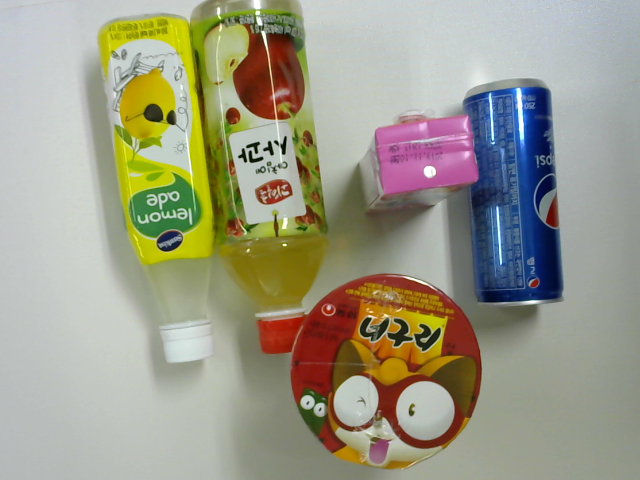Morning_Apple_500ml: (189, 2, 333, 364)
Pepsi_Cola_Can_250ml: (461, 78, 571, 314)
Raccoon: (291, 276, 481, 480)
Strawberry_E_Mong: (359, 110, 481, 228)
Sunkist_Lemonaid_Pet: (99, 10, 219, 376)
